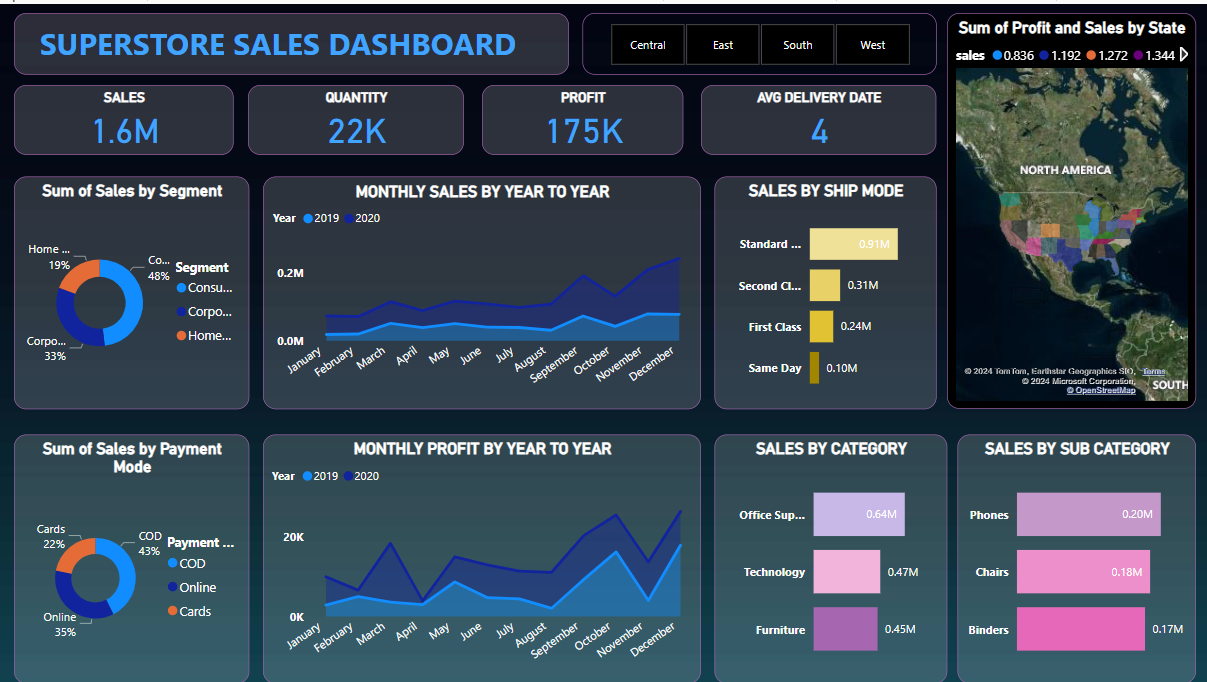

What the dashboard file says about the page in this screenshot:
{"tool":"powerbi","page":{"name":"Page 1","canvas":[1280,720],"ordinal":0},"visuals":[{"type":"clusteredBarChart","title":"SALES BY CATEGORY ","fields":{"Category":["SuperStore_Sales_Dataset.Category"],"Y":["Sum(SuperStore_Sales_Dataset.Sales)"]},"box":[758.1,456.2,246.4,263.8],"z":0},{"type":"clusteredBarChart","title":"SALES BY SUB CATEGORY ","fields":{"Y":["Sum(SuperStore_Sales_Dataset.Sales)"],"Category":["SuperStore_Sales_Dataset.Sub-Category"]},"box":[1015.6,456.2,252.7,263.8],"z":1000},{"type":"clusteredBarChart","title":"SALES BY SHIP MODE ","fields":{"Y":["Sum(SuperStore_Sales_Dataset.Sales)"],"Category":["SuperStore_Sales_Dataset.Ship Mode"]},"box":[758.1,182.8,235.2,246.4],"z":2000},{"type":"stackedAreaChart","title":"MONTHLY SALES BY YEAR  TO YEAR","fields":{"Category":["SuperStore_Sales_Dataset.Order Date.Variation.Date Hierarchy.Month"],"Y":["Sum(SuperStore_Sales_Dataset.Sales)"],"Series":["SuperStore_Sales_Dataset.Order Date.Variation.Date Hierarchy.Year"]},"box":[279.7,182.8,464.1,246.4],"z":3000},{"type":"stackedAreaChart","title":"MONTHLY PROFIT  BY YEAR  TO YEAR","fields":{"Category":["SuperStore_Sales_Dataset.Order Date.Variation.Date Hierarchy.Month"],"Series":["SuperStore_Sales_Dataset.Order Date.Variation.Date Hierarchy.Year"],"Y":["Sum(SuperStore_Sales_Dataset.Profit)"]},"box":[279.7,456.2,464.1,263.8],"z":4000},{"type":"donutChart","fields":{"Category":["SuperStore_Sales_Dataset.Segment"],"Y":["Sum(SuperStore_Sales_Dataset.Sales)"]},"box":[15.9,182.8,249.5,246.4],"z":6000},{"type":"donutChart","fields":{"Category":["SuperStore_Sales_Dataset.Payment Mode"],"Y":["Sum(SuperStore_Sales_Dataset.Sales)"]},"box":[15.9,456.2,249.5,263.8],"z":7000},{"type":"slicer","fields":{"Values":["SuperStore_Sales_Dataset.Region"]},"box":[618.3,9.5,375.1,65.2],"z":8000},{"type":"textbox","box":[15.9,9.5,588.1,65.2],"z":9000},{"type":"card","title":"SALES","fields":{"Values":["Sum(SuperStore_Sales_Dataset.Sales)"]},"box":[15.1,85,232.4,73.7],"z":10000},{"type":"card","title":"QUANTITY","fields":{"Values":["Sum(SuperStore_Sales_Dataset.Quantity)"]},"box":[264.6,85,228.7,73.7],"z":11000},{"type":"card","title":"PROFIT ","fields":{"Values":["Sum(SuperStore_Sales_Dataset.Profit)"]},"box":[512.1,85,213.5,73.7],"z":12000},{"type":"card","title":"AVG DELIVERY DATE","fields":{"Values":["Avg(SuperStore_Sales_Dataset.Average delivery)"]},"box":[744.6,85,249.5,73.7],"z":13000},{"type":"filledMap","title":"Sum of Profit and Sales by State ","fields":{"Category":["SuperStore_Sales_Dataset.State"],"Series":["SuperStore_Sales_Dataset.Sales"]},"box":[1004.5,9.5,263.8,419.6],"z":13001}]}

Visuals, with their boxes in screenshot pixels (x1, y1, x2, y2), scaled from the page's 1280x720 canvas onto the 1207x682 screenshot:
"SALES BY CATEGORY " clusteredBarChart: {"left": 715, "top": 432, "right": 947, "bottom": 681}
"SALES BY SUB CATEGORY " clusteredBarChart: {"left": 958, "top": 432, "right": 1196, "bottom": 681}
"SALES BY SHIP MODE " clusteredBarChart: {"left": 715, "top": 173, "right": 937, "bottom": 407}
"MONTHLY SALES BY YEAR  TO YEAR" stackedAreaChart: {"left": 264, "top": 173, "right": 701, "bottom": 407}
"MONTHLY PROFIT  BY YEAR  TO YEAR" stackedAreaChart: {"left": 264, "top": 432, "right": 701, "bottom": 681}
donutChart - SuperStore_Sales_Dataset.Segment x Sum(SuperStore_Sales_Dataset.Sales): {"left": 15, "top": 173, "right": 250, "bottom": 407}
donutChart - SuperStore_Sales_Dataset.Payment Mode x Sum(SuperStore_Sales_Dataset.Sales): {"left": 15, "top": 432, "right": 250, "bottom": 681}
slicer - SuperStore_Sales_Dataset.Region: {"left": 583, "top": 9, "right": 937, "bottom": 71}
textbox: {"left": 15, "top": 9, "right": 570, "bottom": 71}
"SALES" card: {"left": 14, "top": 81, "right": 233, "bottom": 150}
"QUANTITY" card: {"left": 250, "top": 81, "right": 465, "bottom": 150}
"PROFIT " card: {"left": 483, "top": 81, "right": 684, "bottom": 150}
"AVG DELIVERY DATE" card: {"left": 702, "top": 81, "right": 937, "bottom": 150}
"Sum of Profit and Sales by State " filledMap: {"left": 947, "top": 9, "right": 1196, "bottom": 406}
